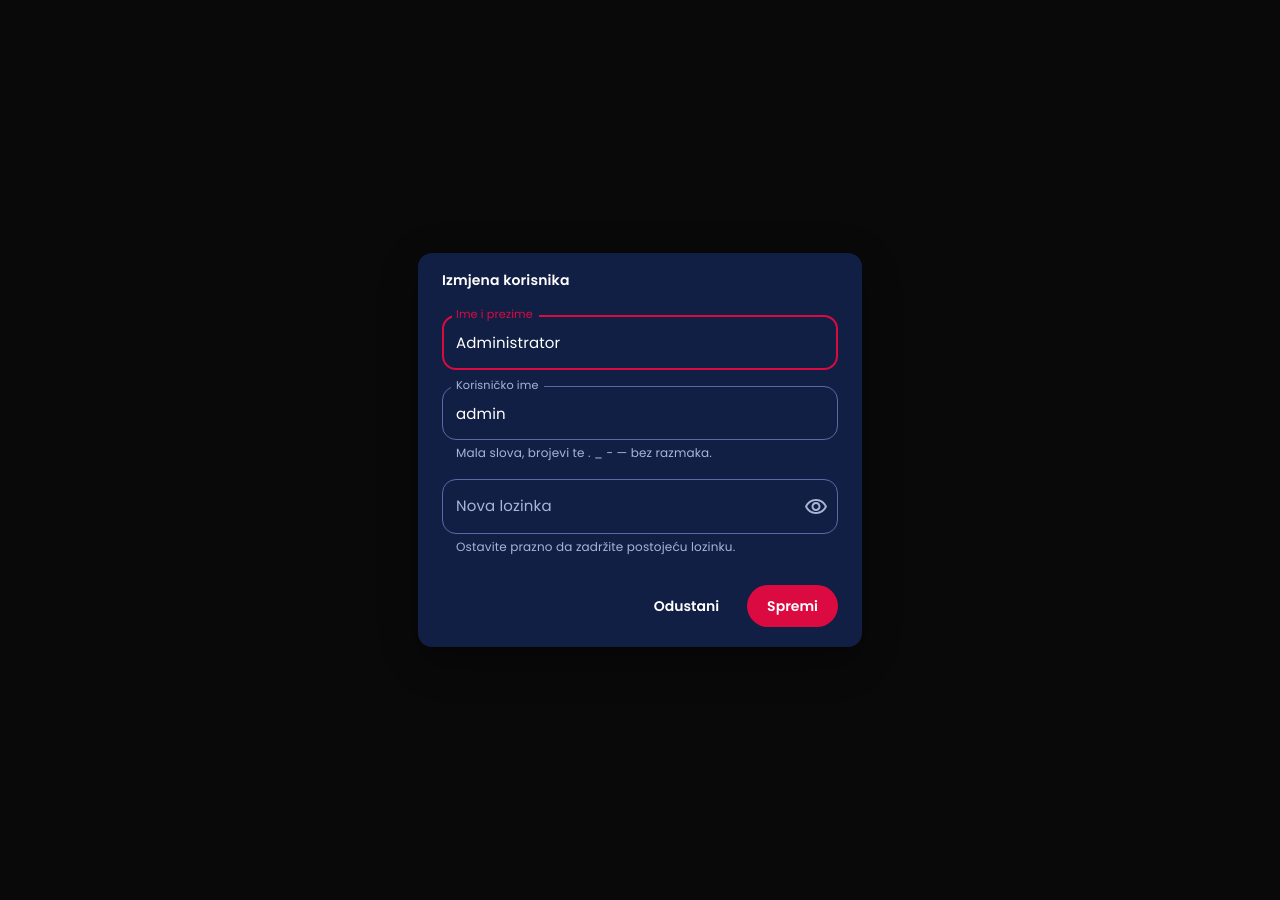
Test: UserEditDialog › validates before spending a round-trip
This screenshot has width=1280, height=900.
Replace the text in the field labelled "Korisničko ime" with "ab": coordinates (640, 413) x1=442 y1=386 x2=838 y2=440
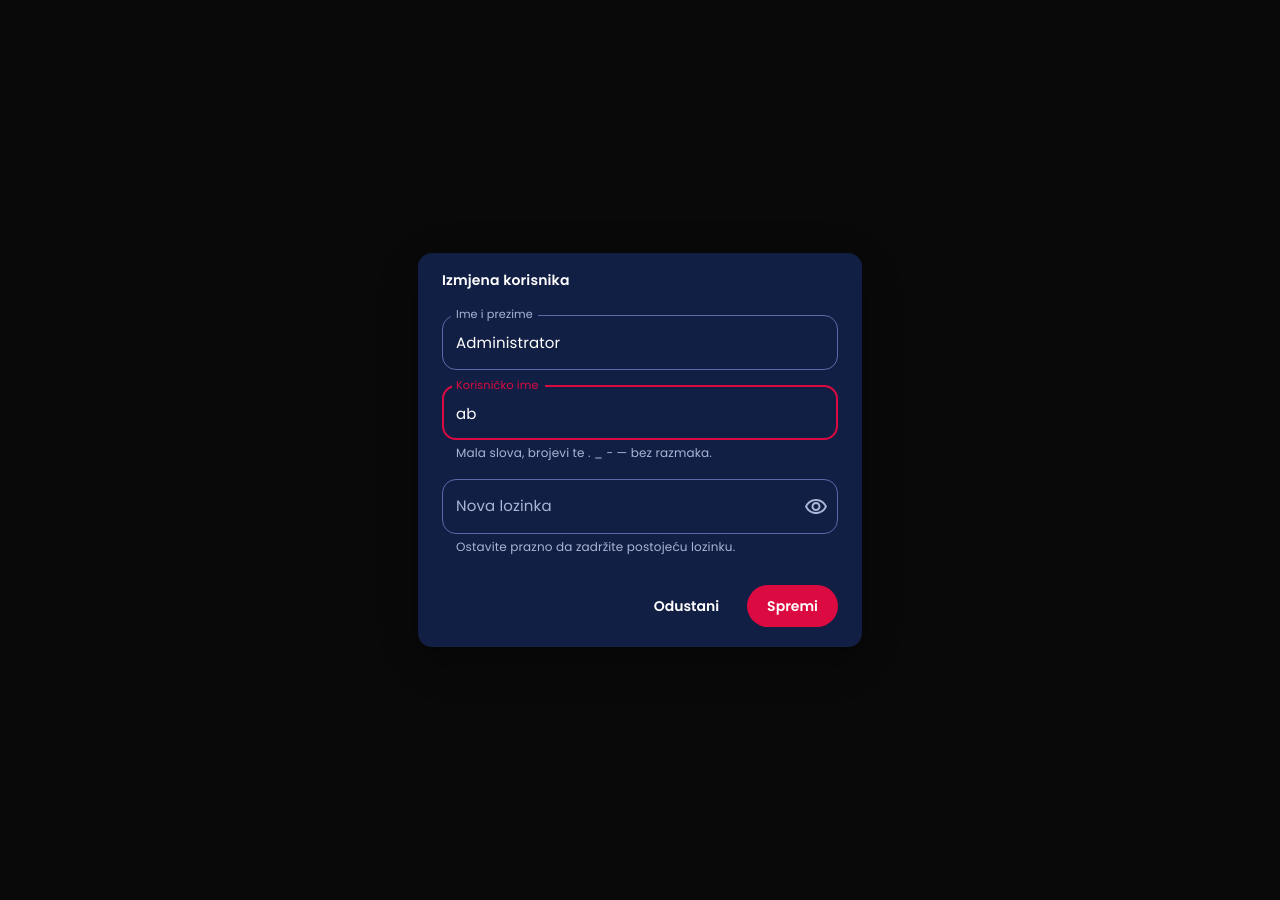
Click the button "Spremi": coordinates (793, 606) x1=747 y1=585 x2=838 y2=627
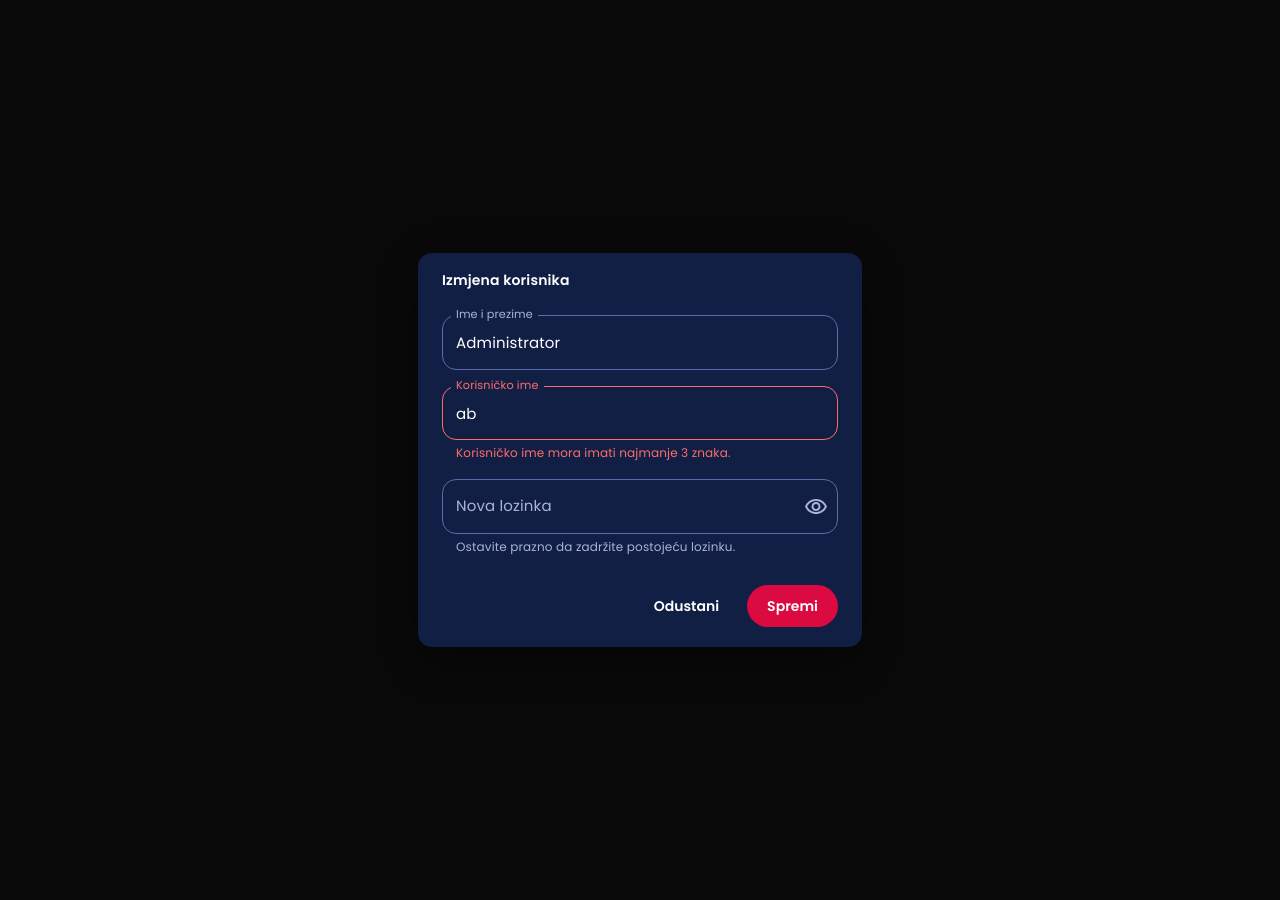
Expected: the text "Korisničko ime mora imati najmanje 3 znaka." is shown, x1=456 y1=444 x2=731 y2=461
